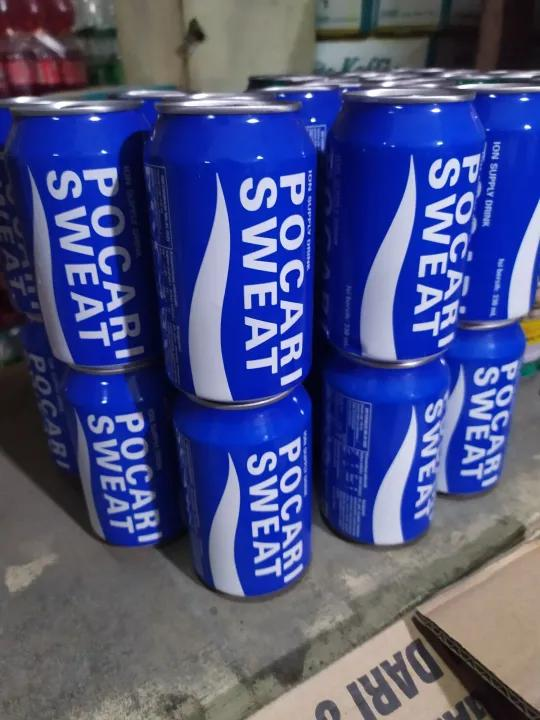metal: (314, 76, 540, 357), (154, 84, 318, 396), (315, 324, 535, 540), (6, 93, 154, 373), (4, 320, 167, 550), (171, 380, 329, 602)
